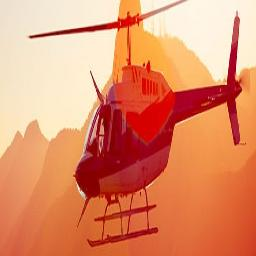helicopter: (23, 2, 247, 255)
